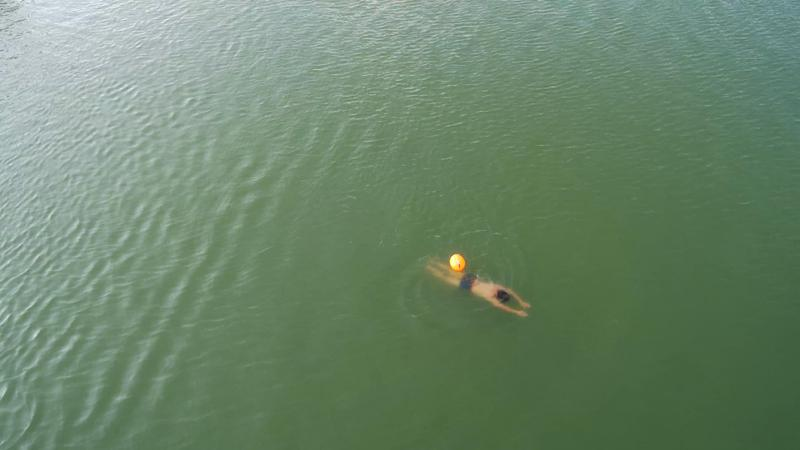swimmers: (423, 258, 533, 319)
